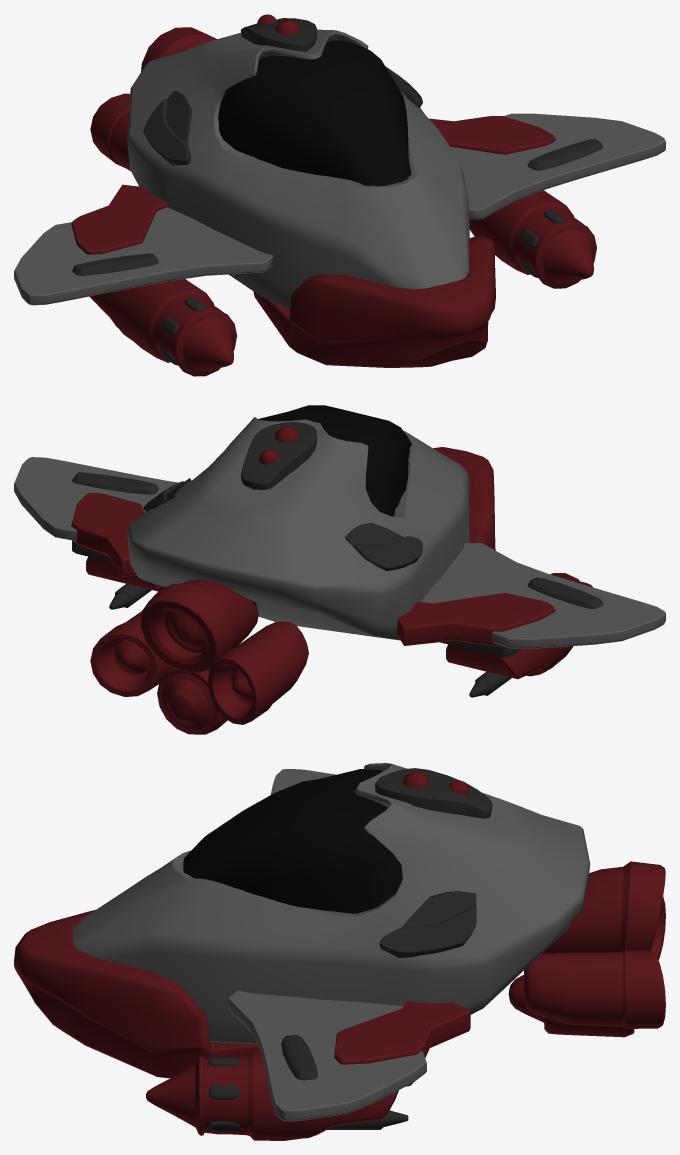
Rendered from Ennemy1.glb.
3 renders of one model, top to bottom at view 1: azimuth 30°, elevation 25°; view 2: azimuth 150°, elevation 25°; view 3: azimuth 270°, elevation 25°, orthographic. The views are drawn at different scales.
Visible parts, largest first — view 1: Spaceship_main_02_Hull, Spaceship_main_02_Wing_R, Spaceship_main_02_Wing_L, Spaceship_main_02_Weapon_R, Spaceship_main_02_Weapon_L, Spaceship_main_02_Engine; view 2: Spaceship_main_02_Hull, Spaceship_main_02_Engine, Spaceship_main_02_Wing_R, Spaceship_main_02_Wing_L, Spaceship_main_02_Weapon_R, Spaceship_main_02_Weapon_L; view 3: Spaceship_main_02_Hull, Spaceship_main_02_Wing_L, Spaceship_main_02_Engine, Spaceship_main_02_Weapon_L, Spaceship_main_02_Wing_R.
Part boxes in pixels (bbox=[...]): Spaceship_main_02_Hull: bbox=[127, 14, 495, 367]; Spaceship_main_02_Wing_R: bbox=[14, 184, 273, 305]; Spaceship_main_02_Wing_L: bbox=[429, 113, 665, 219]; Spaceship_main_02_Weapon_R: bbox=[89, 279, 236, 376]; Spaceship_main_02_Weapon_L: bbox=[469, 190, 596, 288]; Spaceship_main_02_Engine: bbox=[90, 27, 216, 171]; Spaceship_main_02_Hull: bbox=[127, 405, 495, 640]; Spaceship_main_02_Engine: bbox=[90, 579, 308, 734]; Spaceship_main_02_Wing_R: bbox=[396, 543, 665, 648]; Spaceship_main_02_Wing_L: bbox=[14, 457, 177, 577]; Spaceship_main_02_Weapon_R: bbox=[440, 573, 592, 697]; Spaceship_main_02_Weapon_L: bbox=[72, 540, 164, 609]; Spaceship_main_02_Hull: bbox=[14, 763, 590, 1078]; Spaceship_main_02_Wing_L: bbox=[227, 990, 470, 1121]; Spaceship_main_02_Engine: bbox=[508, 861, 665, 1037]; Spaceship_main_02_Weapon_L: bbox=[146, 1051, 413, 1140]; Spaceship_main_02_Wing_R: bbox=[271, 769, 335, 794].
Size of the model in its own units: 7.13 by 2.58 by 5.76.
Materials: 1 (1 with a texture image).
